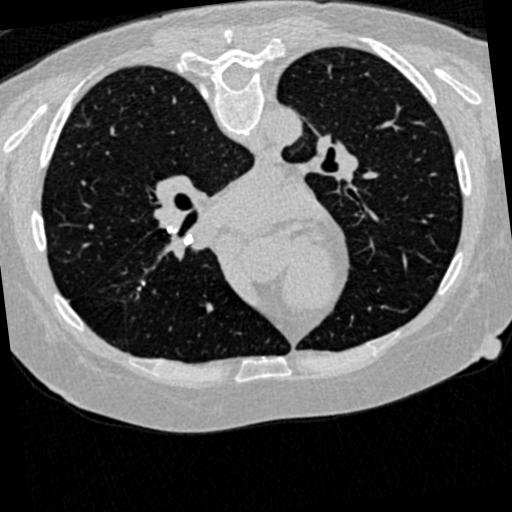nodule: (133, 282, 146, 295)
